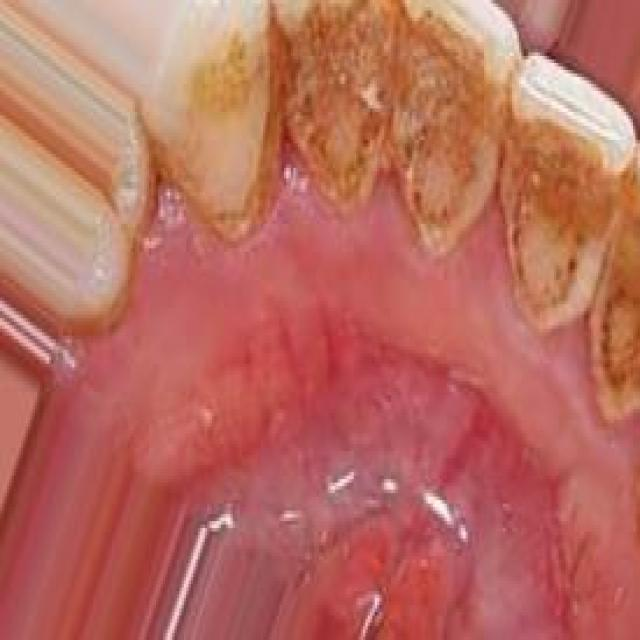calculus: (494, 44, 616, 360), (154, 1, 278, 252), (384, 0, 498, 269), (268, 0, 402, 201), (598, 195, 640, 439)
